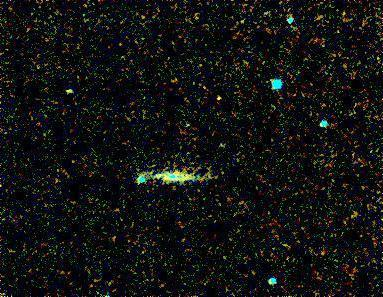star: (202, 83, 232, 113)
